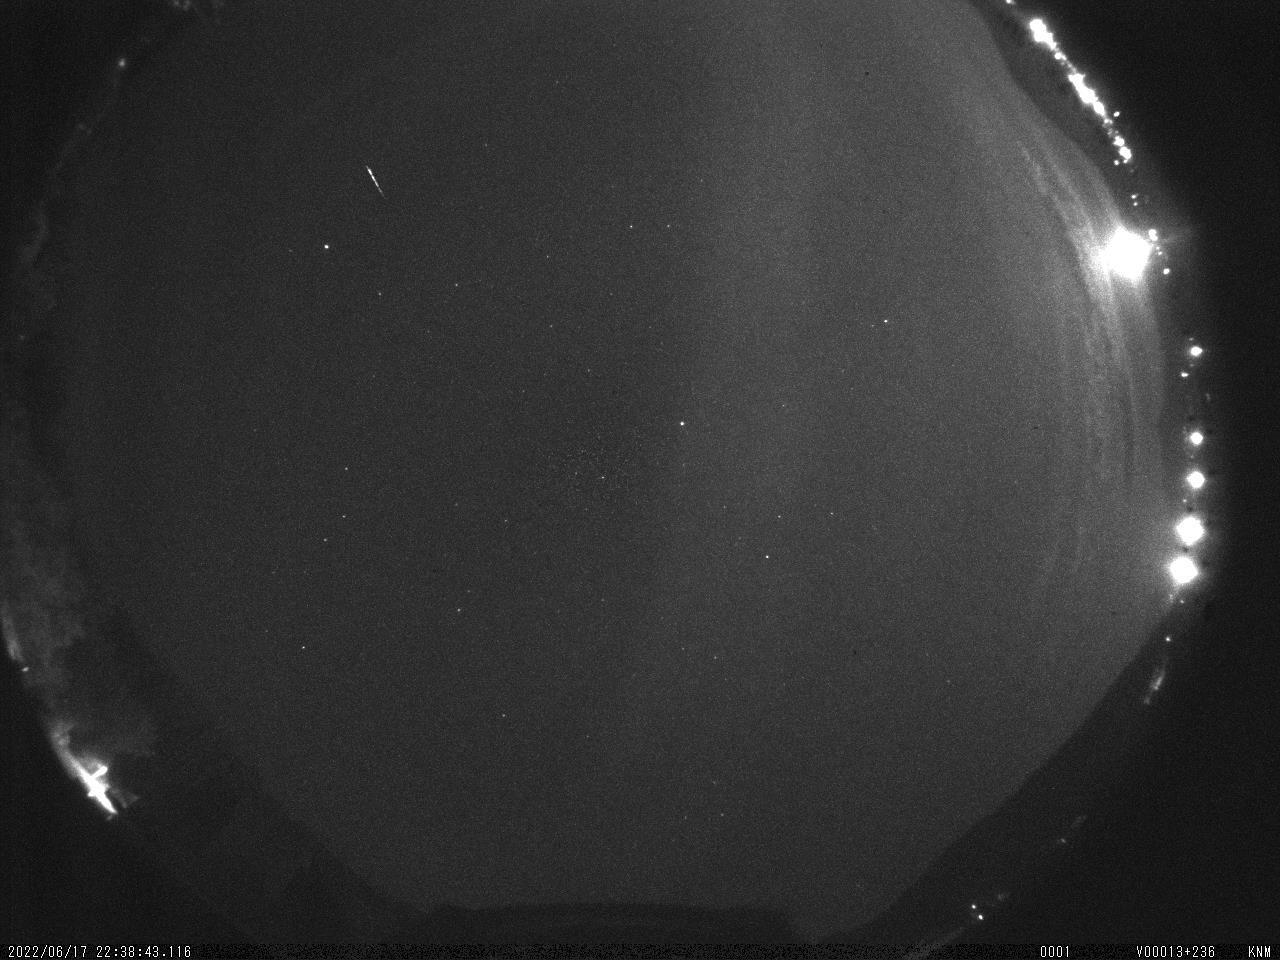Meteor: (363, 159, 387, 205)
